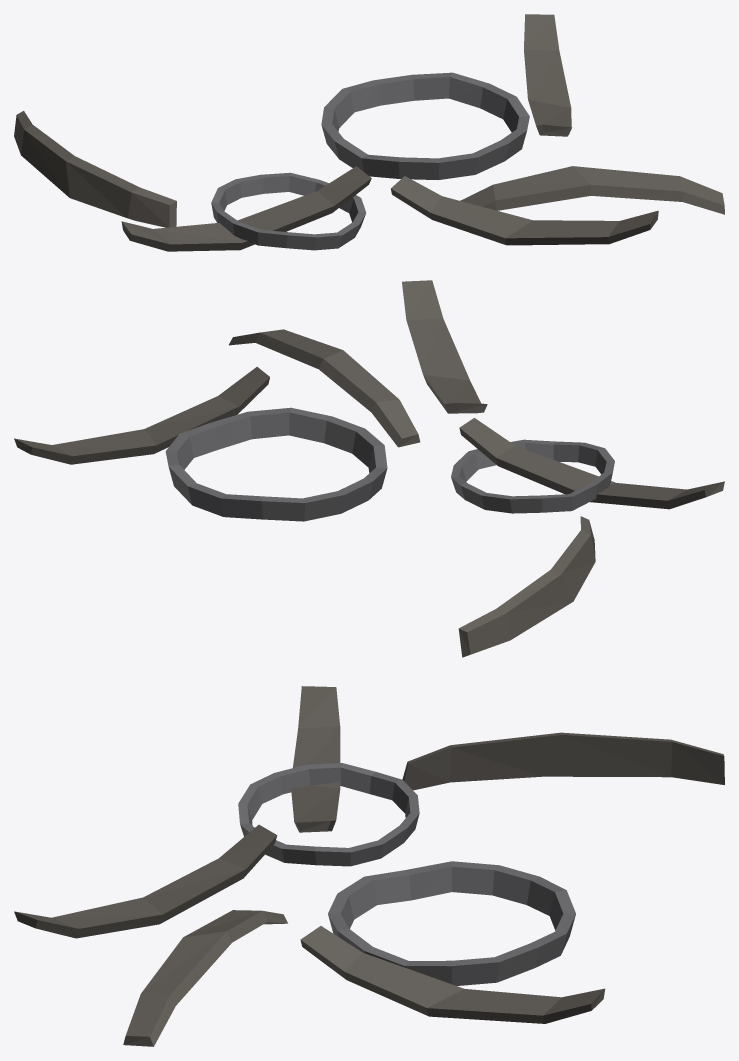
The model's file is SM_Prop_Debris_02.glb.
3 renders of one model, top to bottom at view 1: azimuth 30°, elevation 25°; view 2: azimuth 150°, elevation 25°; view 3: azimuth 270°, elevation 25°, orthographic. The views are drawn at different scales.
Parts seen in each view (by area): view 1: SM_Prop_Debris_02_part00; view 2: SM_Prop_Debris_02_part00; view 3: SM_Prop_Debris_02_part00.
Part boxes in pixels (x1,y1,x2,y2): SM_Prop_Debris_02_part00: (14, 14, 724, 251); SM_Prop_Debris_02_part00: (14, 280, 724, 657); SM_Prop_Debris_02_part00: (14, 686, 724, 1046).
Bounding box in the file's own units: 2.44 × 0.246 × 2.33.
1 material, 1 textured.
